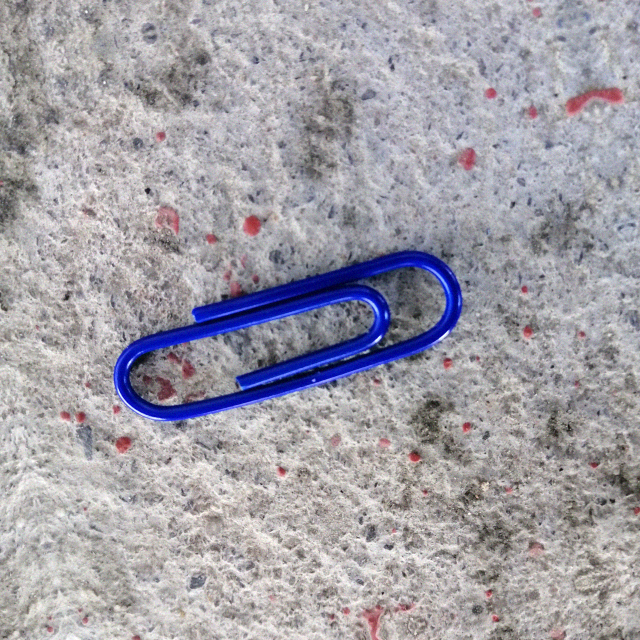pin: (108, 247, 468, 431)
